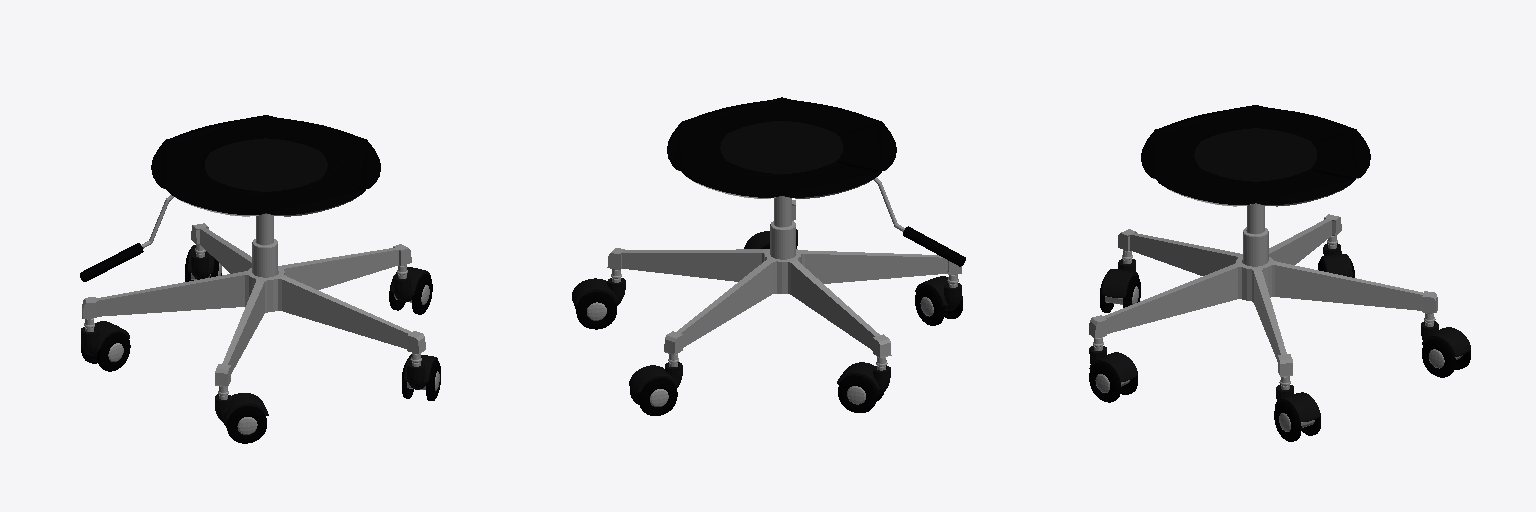
The model's file is chair_untererTeil.obj.
3 views of the same model, side by side, from view 1: azimuth 30°, elevation 25°; view 2: azimuth 150°, elevation 25°; view 3: azimuth 270°, elevation 25° (orthographic).
Visible parts, largest first — view 1: footstool_blender.001; view 2: footstool_blender.001; view 3: footstool_blender.001.
Boxes of the visible parts, box(x1,y1,x2,y2) form: footstool_blender.001: box(80, 115, 440, 443); footstool_blender.001: box(572, 97, 965, 415); footstool_blender.001: box(1089, 105, 1470, 441).
Size of the model in its own units: 3.2 by 1.67 by 2.86.